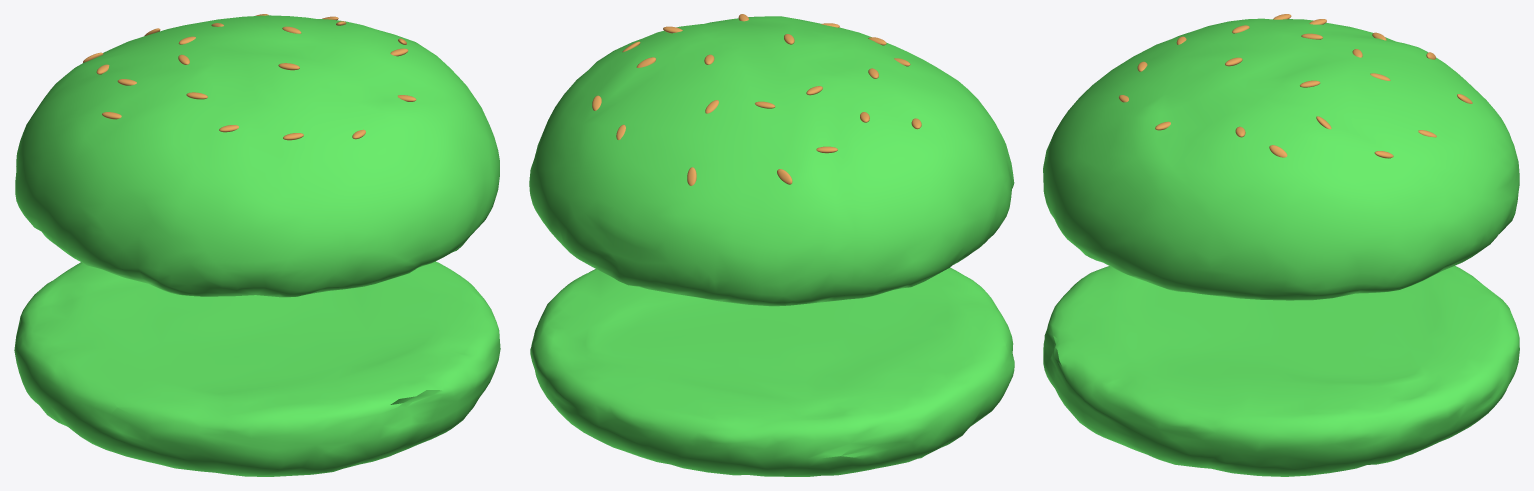
The model's file is Green_Bread.fbx.
The picture shows the model from 3 angles, left to right: view 1: azimuth 30°, elevation 25°; view 2: azimuth 150°, elevation 25°; view 3: azimuth 270°, elevation 25°; orthographic projection.
Parts seen in each view (by area): view 1: ust_ekmek, Alt_ekmek; view 2: ust_ekmek, Alt_ekmek; view 3: ust_ekmek, Alt_ekmek.
Part boxes in pixels (left/top/right/bottom): ust_ekmek: left=15, top=14, right=499, bottom=297; Alt_ekmek: left=14, top=261, right=500, bottom=476; ust_ekmek: left=529, top=14, right=1014, bottom=306; Alt_ekmek: left=530, top=267, right=1014, bottom=476; ust_ekmek: left=1043, top=14, right=1519, bottom=300; Alt_ekmek: left=1043, top=266, right=1519, bottom=476.
Bounding box in the file's own units: 20.37 × 15.92 × 20.37.
